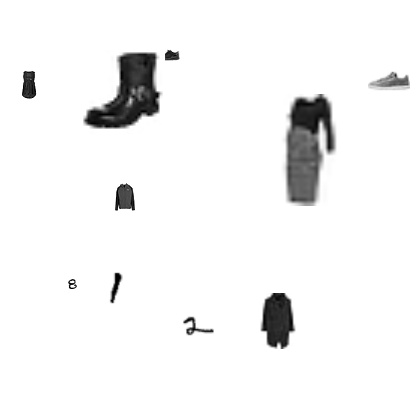1: (94, 264, 136, 306)
2: (173, 305, 215, 347)
8: (65, 277, 79, 291)
Ankle_boot: (81, 50, 165, 134)
Coat: (249, 293, 305, 349), (111, 183, 139, 211)
Dress: (251, 94, 363, 206), (15, 71, 43, 99)
Sneaker: (368, 60, 410, 102), (158, 44, 180, 66)
